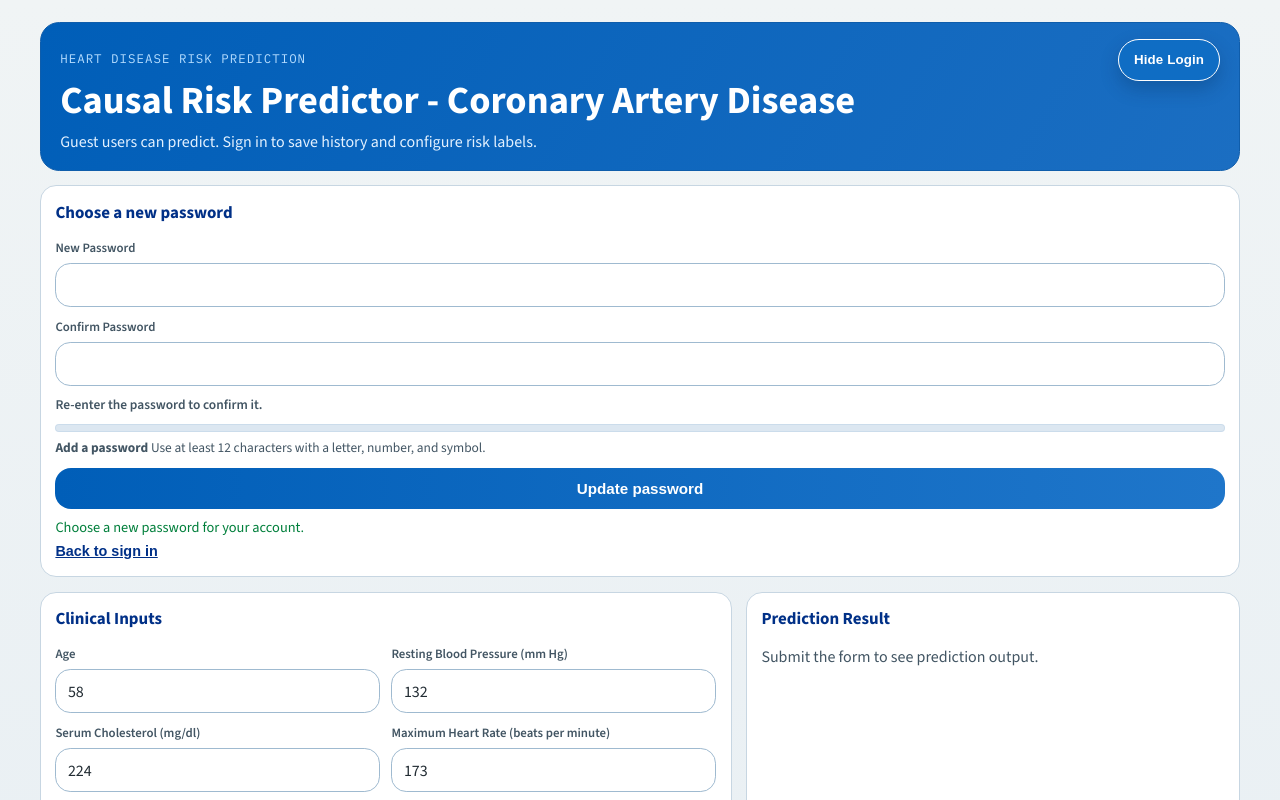
Scenario: recovery link flow updates password and authenticates the user
This screenshot has width=1280, height=800.
Type "Long enough passphrase1!" into the password field labelled "New Password" at (640, 285), box [55,263,1225,307]
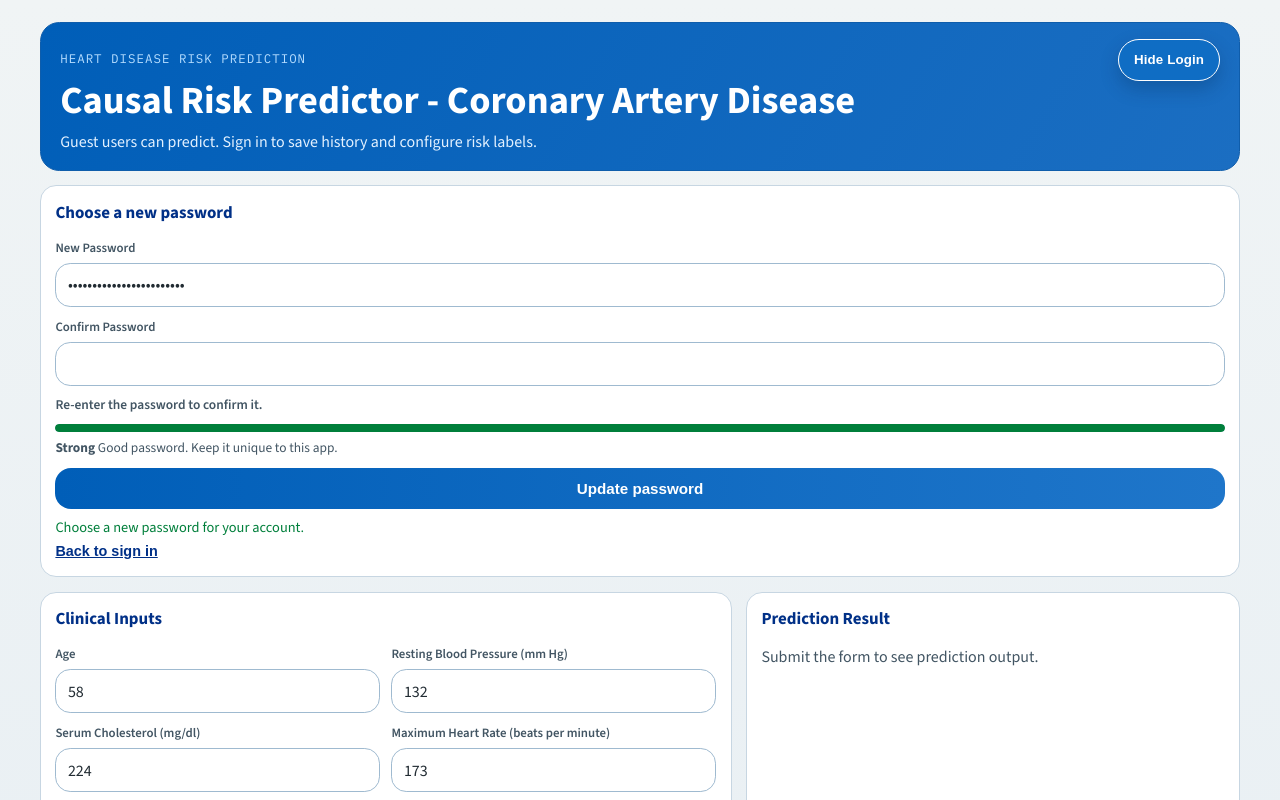
Type "Long enough passphrase1!" into the password field labelled "Confirm Password" at (640, 364), box [55,342,1225,386]
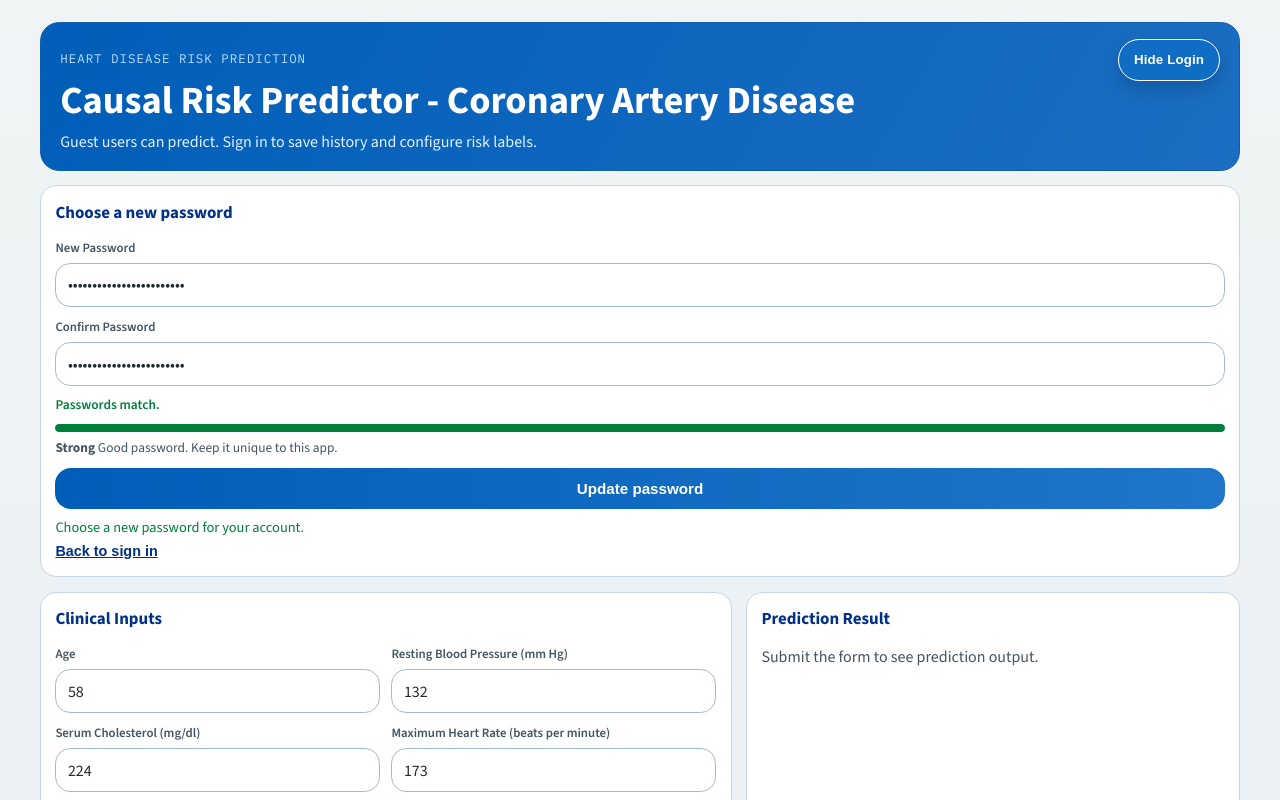
Submit the form named "Update password", box [55,239,1225,509]
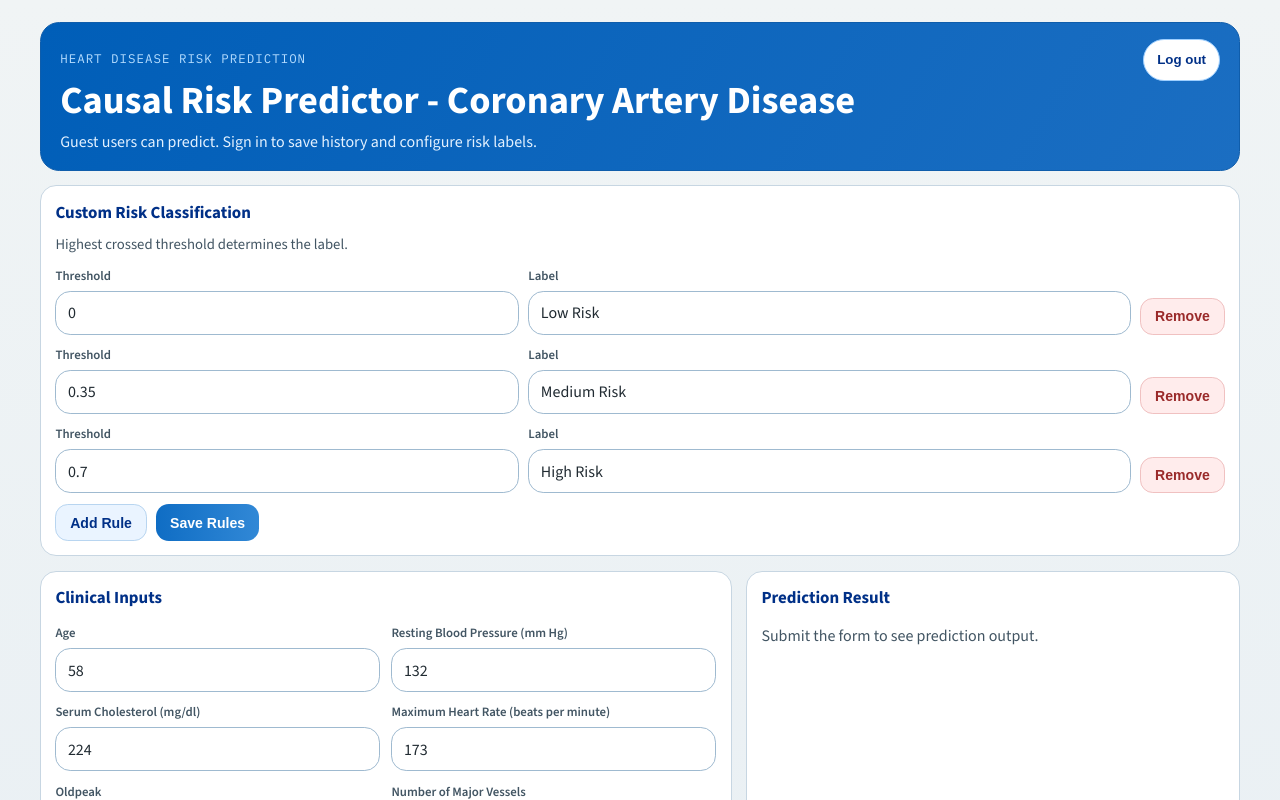
Result: the heading "Custom Risk Classification" is shown at [55,201,251,224]
